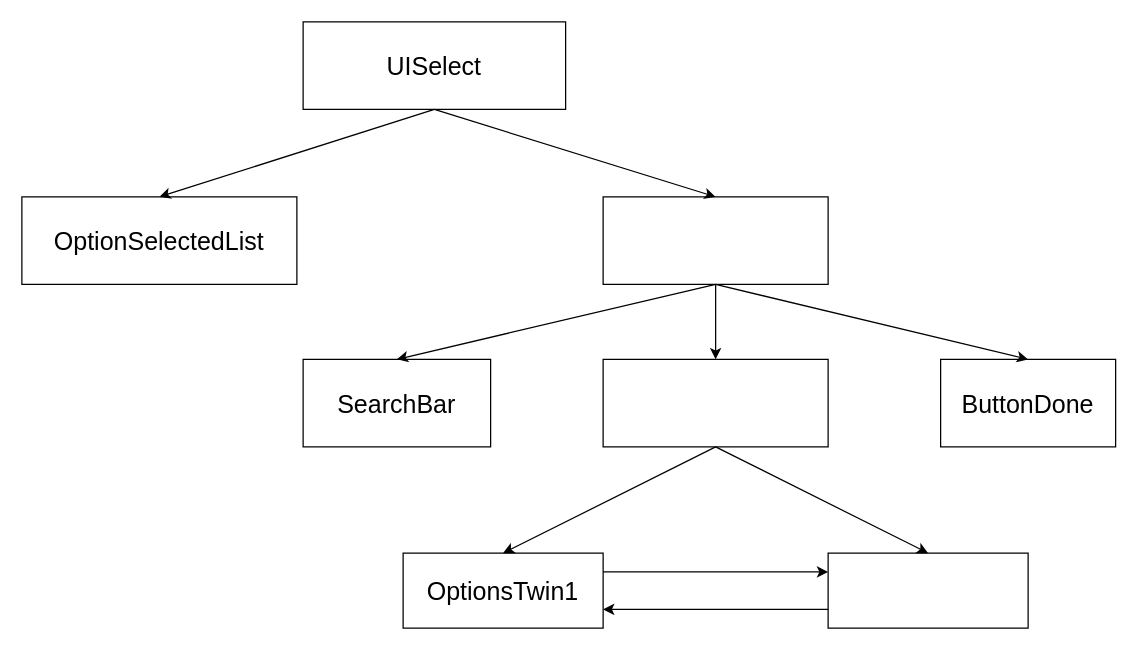
Image size: 1138x650. Some labels were removed from this diagram. The shapes that lost their labels are listed below. From the top down, each one's centre as x and y in pixels, then its label:
pixel 715 240: Dropdown
pixel 715 402: SelectContainer
pixel 927 590: OptionsTwin2
